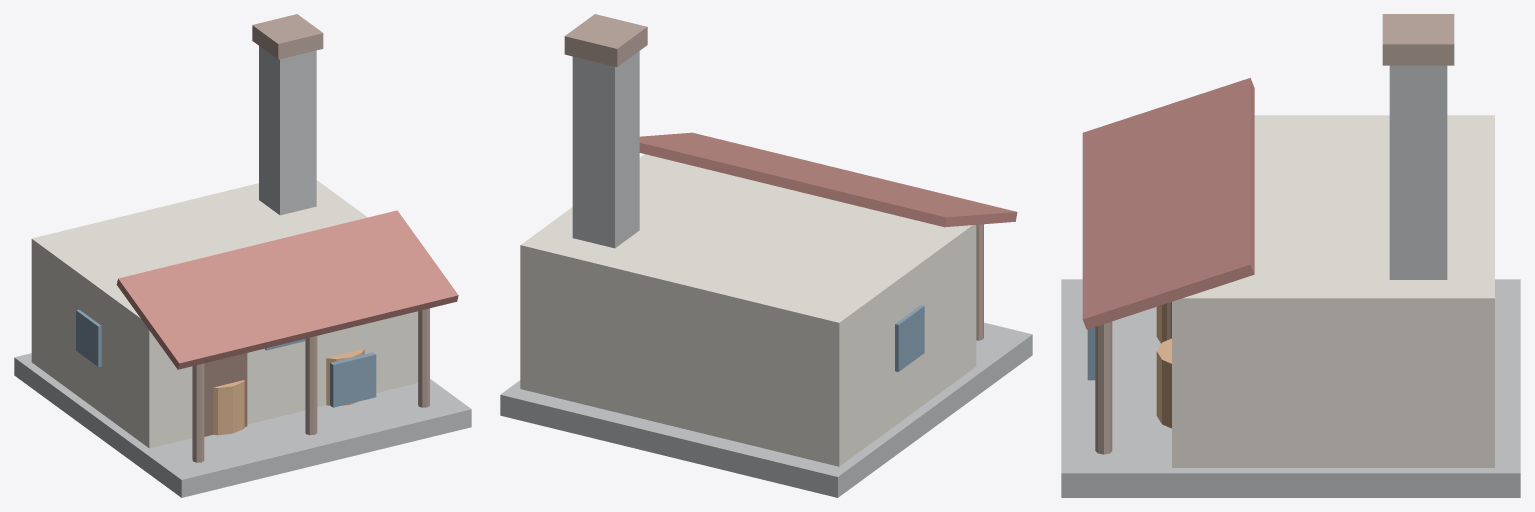
File: SCHNAPPS_DISTILLERY.glb
3 renders of one model, left to right at view 1: azimuth 30°, elevation 25°; view 2: azimuth 150°, elevation 25°; view 3: azimuth 270°, elevation 25°, orthographic. The views are drawn at different scales.
Parts seen in each view (by area): view 1: SCHNAPPS_DISTILLERY; view 2: SCHNAPPS_DISTILLERY; view 3: SCHNAPPS_DISTILLERY.
Part boxes in pixels (x1,y1,x2,y2): SCHNAPPS_DISTILLERY: (14,14,471,497); SCHNAPPS_DISTILLERY: (500,14,1032,497); SCHNAPPS_DISTILLERY: (1061,14,1520,497).
Size of the model in its own units: 2.7 by 2.81 by 2.7.
